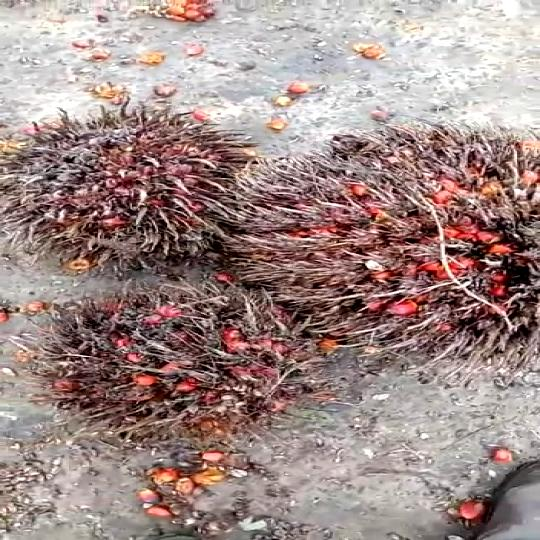terlalu masak: (224, 128, 540, 353), (43, 296, 321, 444), (0, 112, 252, 270)
